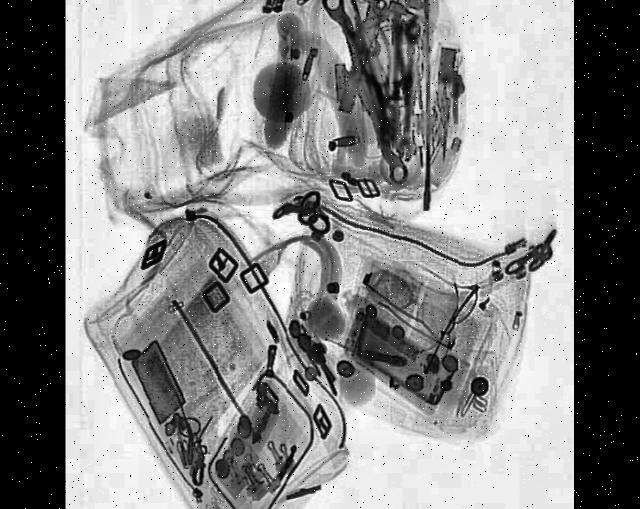Wrench: (318, 0, 411, 189), (392, 17, 426, 162)
